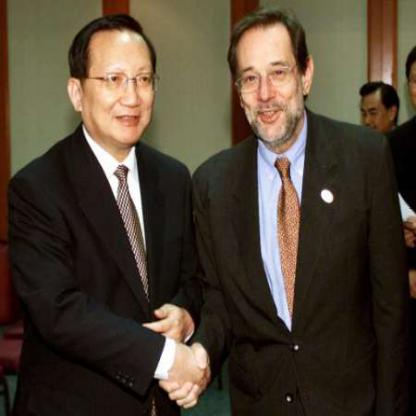face: (82, 24, 159, 148), (237, 16, 304, 147), (360, 83, 391, 139)
